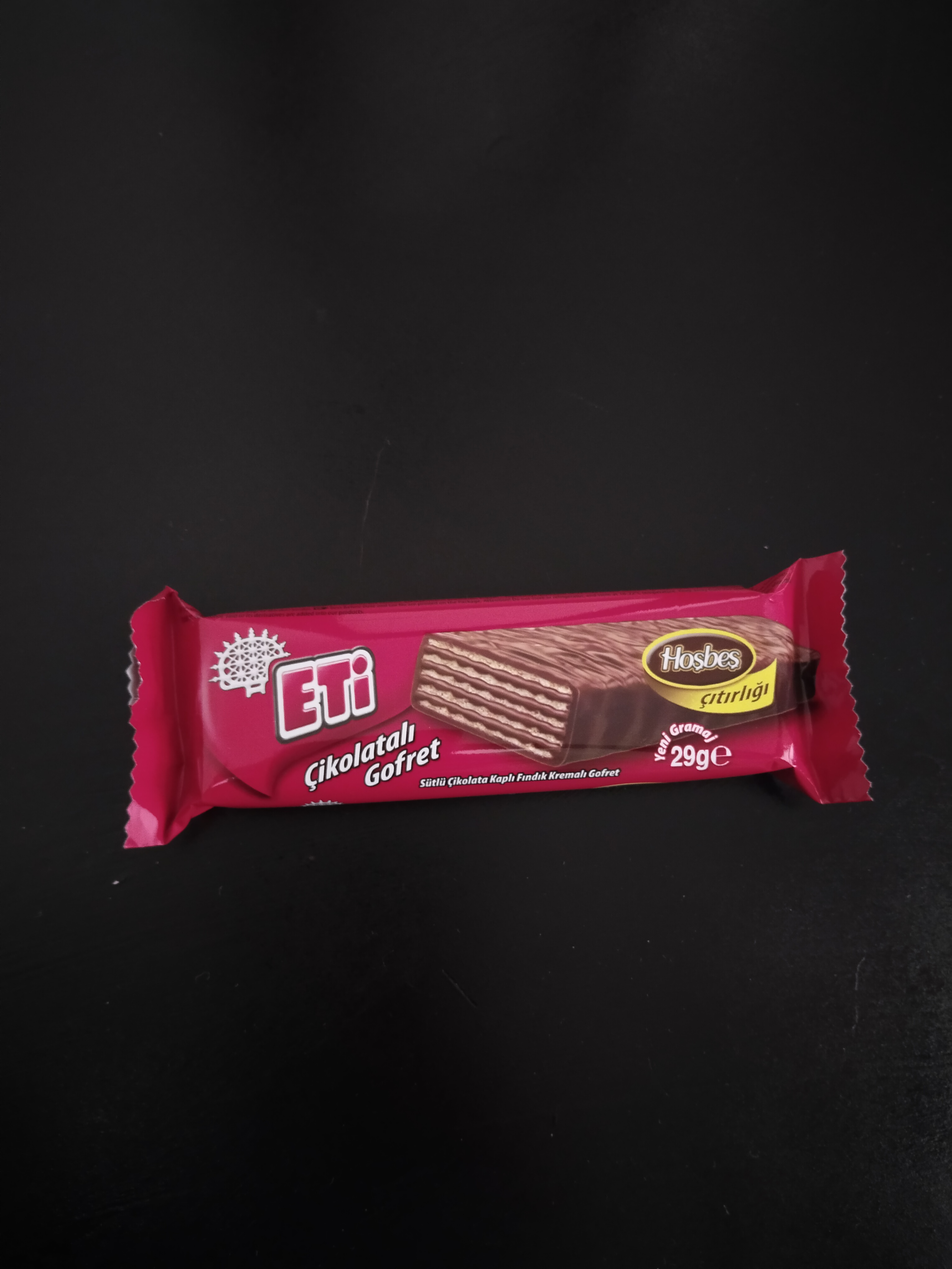eti_hosbes_gofret: (123, 552, 870, 845)
